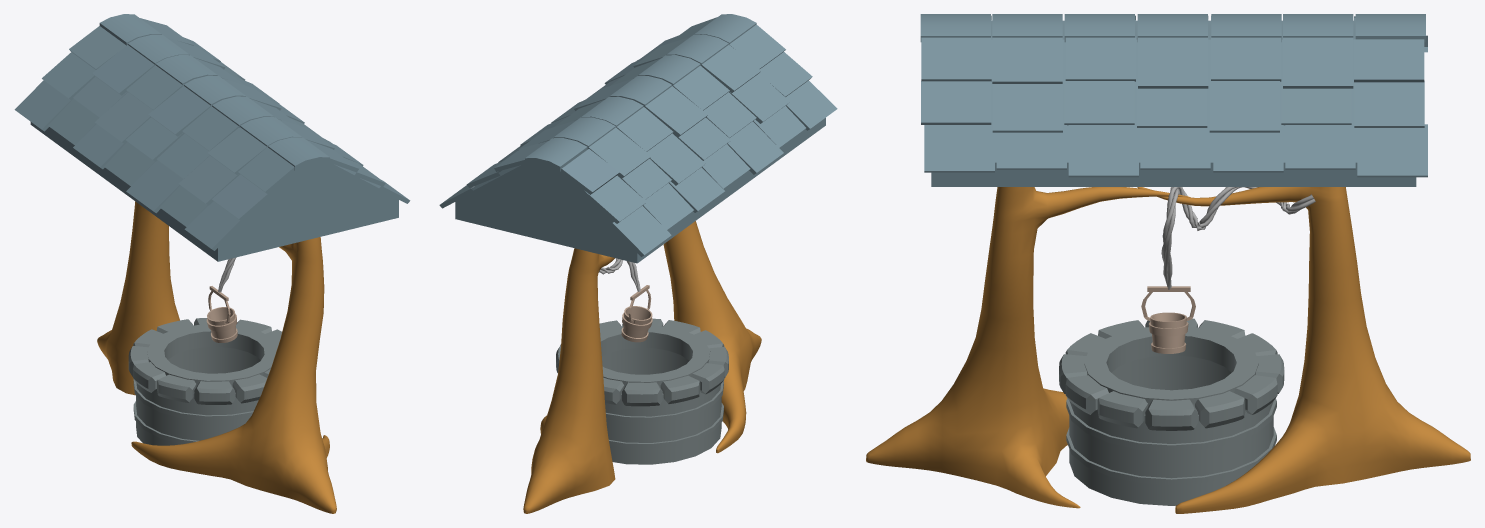
File: pozo_de_agua.fbx
The picture shows the model from 3 angles, left to right: view 1: azimuth 30°, elevation 25°; view 2: azimuth 150°, elevation 25°; view 3: azimuth 270°, elevation 25°; orthographic projection. The views are drawn at different scales.
Parts seen in each view (by area): view 1: pCube47, pCube2, pCylinder8, pCube16, pCube1, pCylinder7; view 2: pCube47, pCylinder8, pCube1, pCube16, pCube2, pCylinder7; view 3: pCube47, pCylinder8, pCube1, pCube2, pCube16, pCylinder6, pCylinder7.
Boxes of the visible parts, box(x1,y1,x2,y2) form: pCube47: box(14, 14, 410, 250); pCube2: box(131, 237, 336, 513); pCylinder8: box(128, 318, 281, 445); pCube16: box(30, 122, 398, 261); pCube1: box(97, 201, 179, 395); pCylinder7: box(206, 291, 237, 342); pCube47: box(439, 14, 837, 256); pCylinder8: box(556, 318, 728, 464); pCube1: box(523, 248, 615, 513); pCube16: box(455, 118, 825, 263); pCube2: box(663, 221, 761, 453); pCylinder7: box(621, 290, 652, 342); pCube47: box(920, 14, 1427, 177); pCylinder8: box(1059, 318, 1284, 505); pCube1: box(1137, 187, 1470, 513); pCube2: box(866, 187, 1189, 508); pCube16: box(931, 20, 1416, 186); pCylinder6: box(1161, 187, 1315, 289); pCylinder7: box(1141, 292, 1195, 353).
Bounding box in the file's own units: 5.68 × 9.1 × 11.27.
